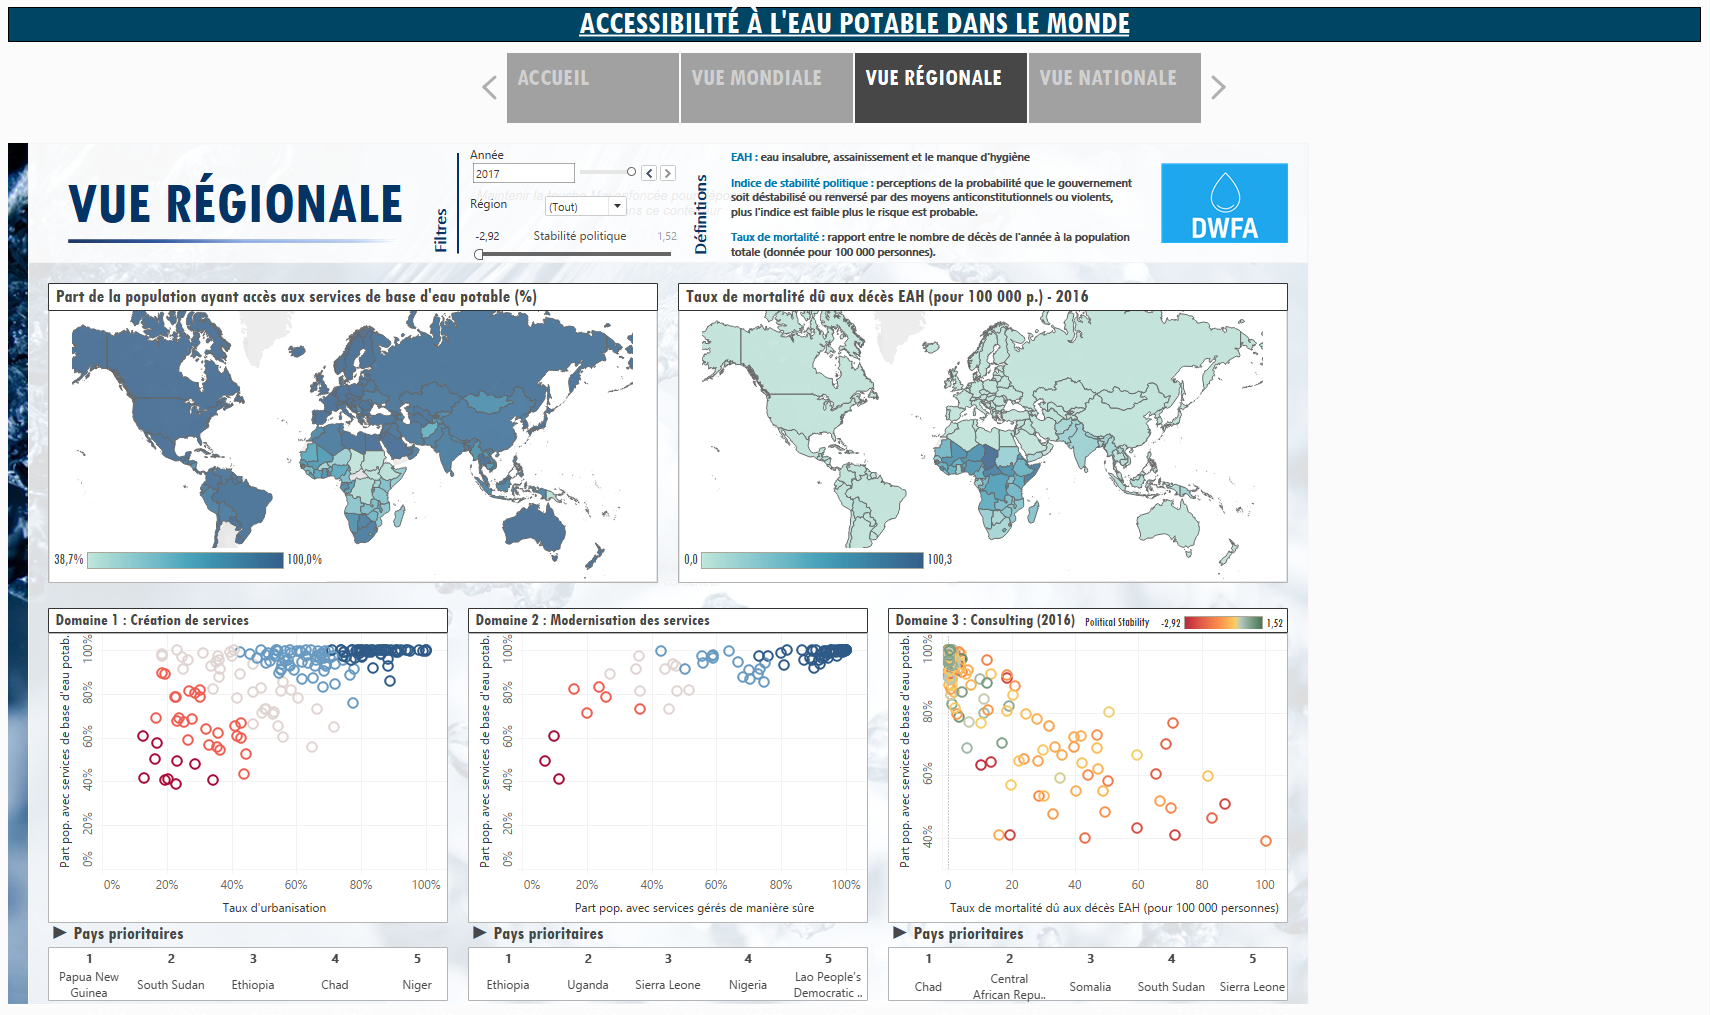

The dashboard page shown, as its layout file describes it:
{"tool":"tableau","page":{"name":"Vue régionale","canvas":[1300,864],"ordinal":3},"visuals":[{"type":"image","param":"Image/splashing-275950_960_720.jpg","box":[0,0,1301,863]},{"type":"text","box":[720,2,406,121]},{"type":"filter","title":"Carte régionale % accès à l'eau potable","param":"[federated.1g86o1e1h6on971bcz5121entxyj].[none:Calculation_1051027579556036613:n","box":[462,3,210,41]},{"type":"image","param":"Image/ligne seule4.png","box":[418,10,64,102]},{"type":"image","param":"Image/ligne seule4 1.png","box":[679,10,64,102]},{"type":"text","box":[56,14,342,96]},{"type":"image","param":"Image/logo.png","box":[1153,20,137,80]},{"type":"text","box":[681,28,38,90]},{"type":"filter","title":"Carte régionale % accès à l'eau potable","param":"[federated.1g86o1e1h6on971bcz5121entxyj].[none:Région:nk]","box":[462,50,160,32]},{"type":"text","box":[421,60,38,58]},{"type":"image","param":"Image/trait2.png","box":[60,77,330,42]},{"type":"filter","title":"Efficacité politique","param":"[federated.1g86o1e1h6on971bcz5121entxyj].[avg:Political Stability:qk]","box":[462,80,214,38]},{"type":"text","box":[523,80,98,25]},{"type":"worksheet","title":"Carte régionale % accès à l'eau potable","mark":"Automatic","box":[40,140,610,300]},{"type":"text","box":[40,140,610,28]},{"type":"worksheet","title":"Carte taux de mortalité régionale","mark":"Multipolygon","box":[670,140,610,300]},{"type":"text","box":[670,140,610,28]},{"type":"legend","title":"Carte régionale % accès à l'eau potable","param":"[federated.1g86o1e1h6on971bcz5121entxyj].[usr:Calculation_408420206986440707:qk]","box":[42,405,277,34]},{"type":"legend","title":"Carte taux de mortalité régionale","param":"[federated.1g86o1e1h6on971bcz5121entxyj].[usr:Calculation_408420206985613314:qk]","box":[672,405,277,34]},{"type":"text","box":[40,465,400,25]},{"type":"text","box":[460,465,400,25]},{"type":"text","box":[880,465,400,25]},{"type":"legend","title":"Efficacité politique","param":"[federated.1g86o1e1h6on971bcz5121entxyj].[avg:Political Stability:qk]","box":[1077,469,203,17]},{"type":"worksheet","title":"Création de services","mark":"Automatic","rows":["Calculation_408420206986440707"],"cols":["Calculation_234468672836804613"],"box":[40,490,400,290]},{"type":"worksheet","title":"Modernisation","mark":"Automatic","rows":["Calculation_408420206986440707"],"cols":["Calculation_408420206991593476"],"box":[460,490,400,290]},{"type":"worksheet","title":"Efficacité politique","mark":"Automatic","rows":["Calculation_408420206986440707"],"cols":["Calculation_408420206985613314"],"box":[880,490,400,290]},{"type":"text","box":[40,780,400,25]},{"type":"text","box":[460,780,400,25]},{"type":"text","box":[880,780,400,25]},{"type":"blank","box":[40,804,400,54]},{"type":"blank","box":[460,804,400,54]},{"type":"blank","box":[880,804,400,54]}]}

Visuals, with their boxes on the page's 1300x864 design canvas (x1, y1, x2, y2). These are canvas units, not pixel positions in the 1710x1015 screenshot, which may show the page scaled, cropped or inside an application window:
image: select_region(0, 0, 1301, 863)
text: select_region(720, 2, 1126, 123)
"Carte régionale % accès à l'eau potable" filter: select_region(462, 3, 672, 44)
image: select_region(418, 10, 482, 112)
image: select_region(679, 10, 743, 112)
text: select_region(56, 14, 398, 110)
image: select_region(1153, 20, 1290, 100)
text: select_region(681, 28, 719, 118)
"Carte régionale % accès à l'eau potable" filter: select_region(462, 50, 622, 82)
text: select_region(421, 60, 459, 118)
image: select_region(60, 77, 390, 119)
"Efficacité politique" filter: select_region(462, 80, 676, 118)
text: select_region(523, 80, 621, 105)
"Carte régionale % accès à l'eau potable" worksheet: select_region(40, 140, 650, 440)
text: select_region(40, 140, 650, 168)
"Carte taux de mortalité régionale" worksheet (Multipolygon marks): select_region(670, 140, 1280, 440)
text: select_region(670, 140, 1280, 168)
"Carte régionale % accès à l'eau potable" legend: select_region(42, 405, 319, 439)
"Carte taux de mortalité régionale" legend: select_region(672, 405, 949, 439)
text: select_region(40, 465, 440, 490)
text: select_region(460, 465, 860, 490)
text: select_region(880, 465, 1280, 490)
"Efficacité politique" legend: select_region(1077, 469, 1280, 486)
"Création de services" worksheet: select_region(40, 490, 440, 780)
"Modernisation" worksheet: select_region(460, 490, 860, 780)
"Efficacité politique" worksheet: select_region(880, 490, 1280, 780)
text: select_region(40, 780, 440, 805)
text: select_region(460, 780, 860, 805)
text: select_region(880, 780, 1280, 805)
blank: select_region(40, 804, 440, 858)
blank: select_region(460, 804, 860, 858)
blank: select_region(880, 804, 1280, 858)
